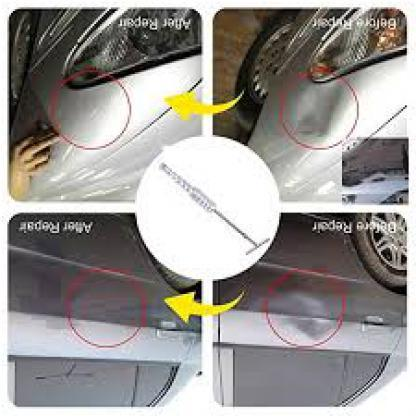dent: (272, 281, 342, 346), (292, 82, 351, 144)
